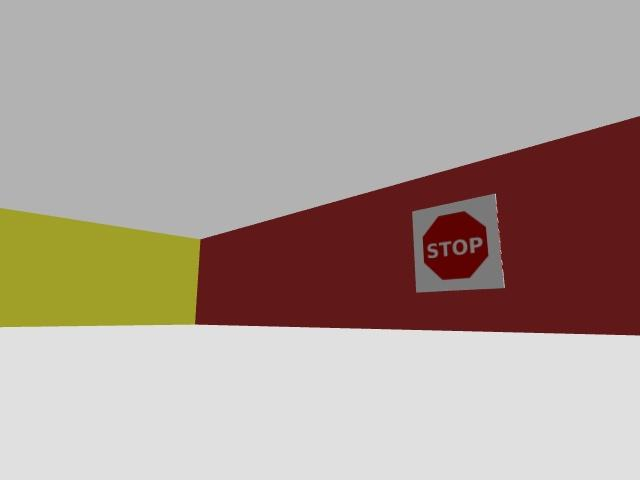stopsign: (414, 194, 504, 291)
